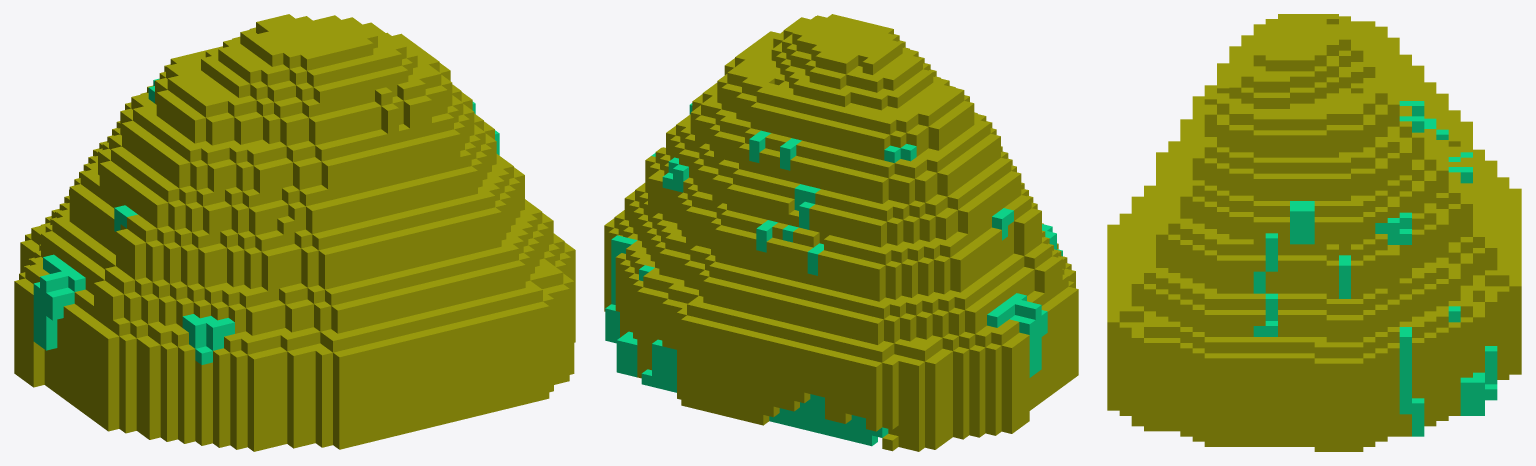
Rendered from MaribelNivel5V2-0.obj.
3 renders of one model, left to right at view 1: azimuth 30°, elevation 25°; view 2: azimuth 150°, elevation 25°; view 3: azimuth 270°, elevation 25°, orthographic. The views are drawn at different scales.
Size of the model in its own units: 4.2 by 2.8 by 3.4.
1 material, 1 textured.
